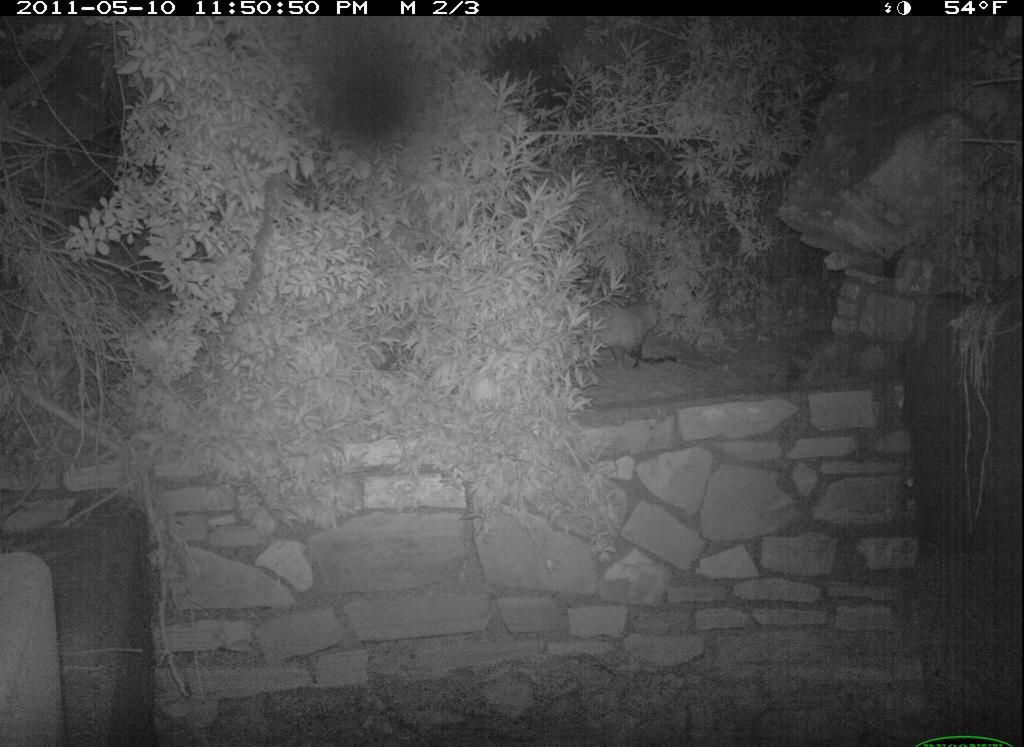opossum: (525, 289, 703, 363)
